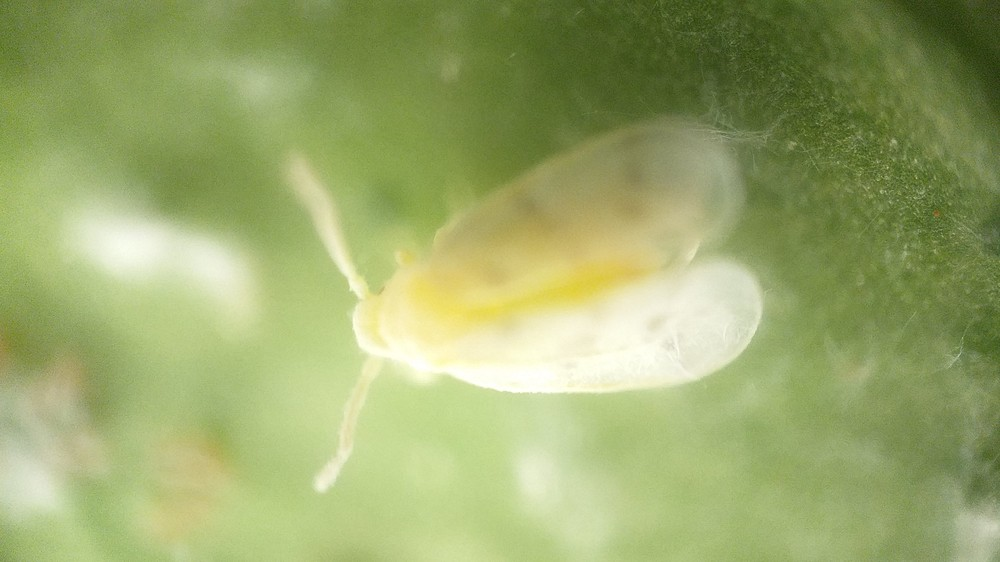Mosca Blanca: (258, 110, 773, 497)
